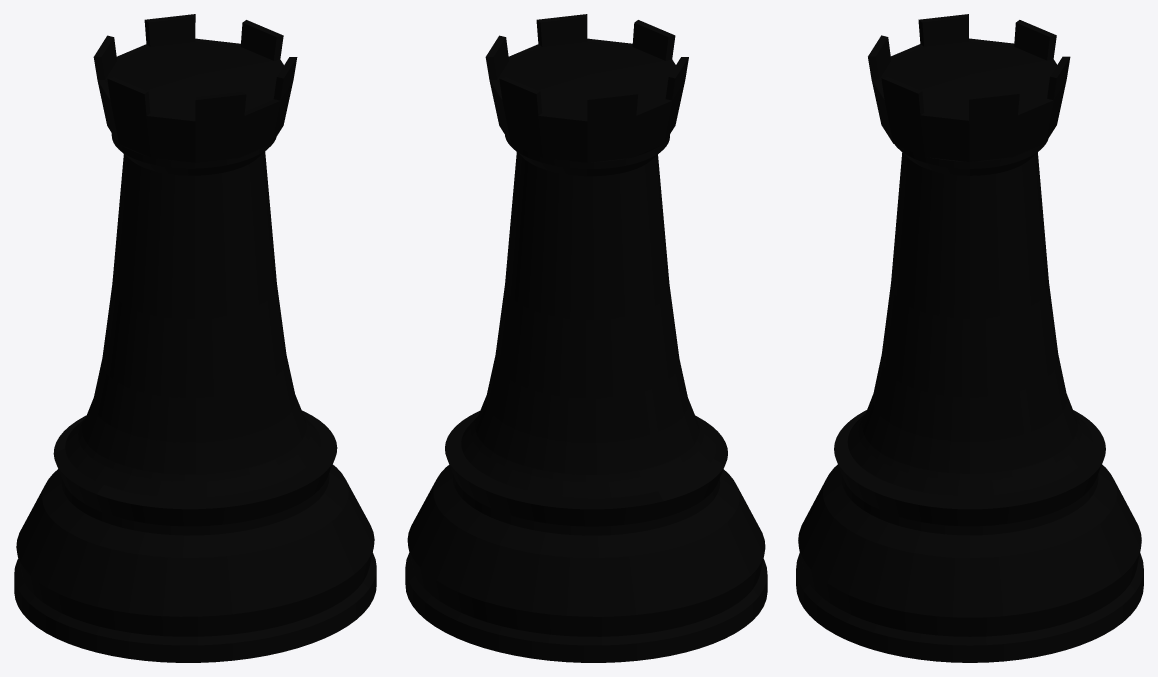
The model's file is RookFileB.glb.
3 views of the same model, side by side, from view 1: azimuth 30°, elevation 25°; view 2: azimuth 150°, elevation 25°; view 3: azimuth 270°, elevation 25° (orthographic).
Visible parts, largest first — view 1: RookA8; view 2: RookA8; view 3: RookA8.
Boxes of the visible parts, <box> form: RookA8: <box>14,14,376,662</box>; RookA8: <box>405,14,767,662</box>; RookA8: <box>796,14,1143,662</box>.
Bounding box in the file's own units: 1.05 × 1.68 × 0.9981.
Materials: 1 (1 with a texture image).
